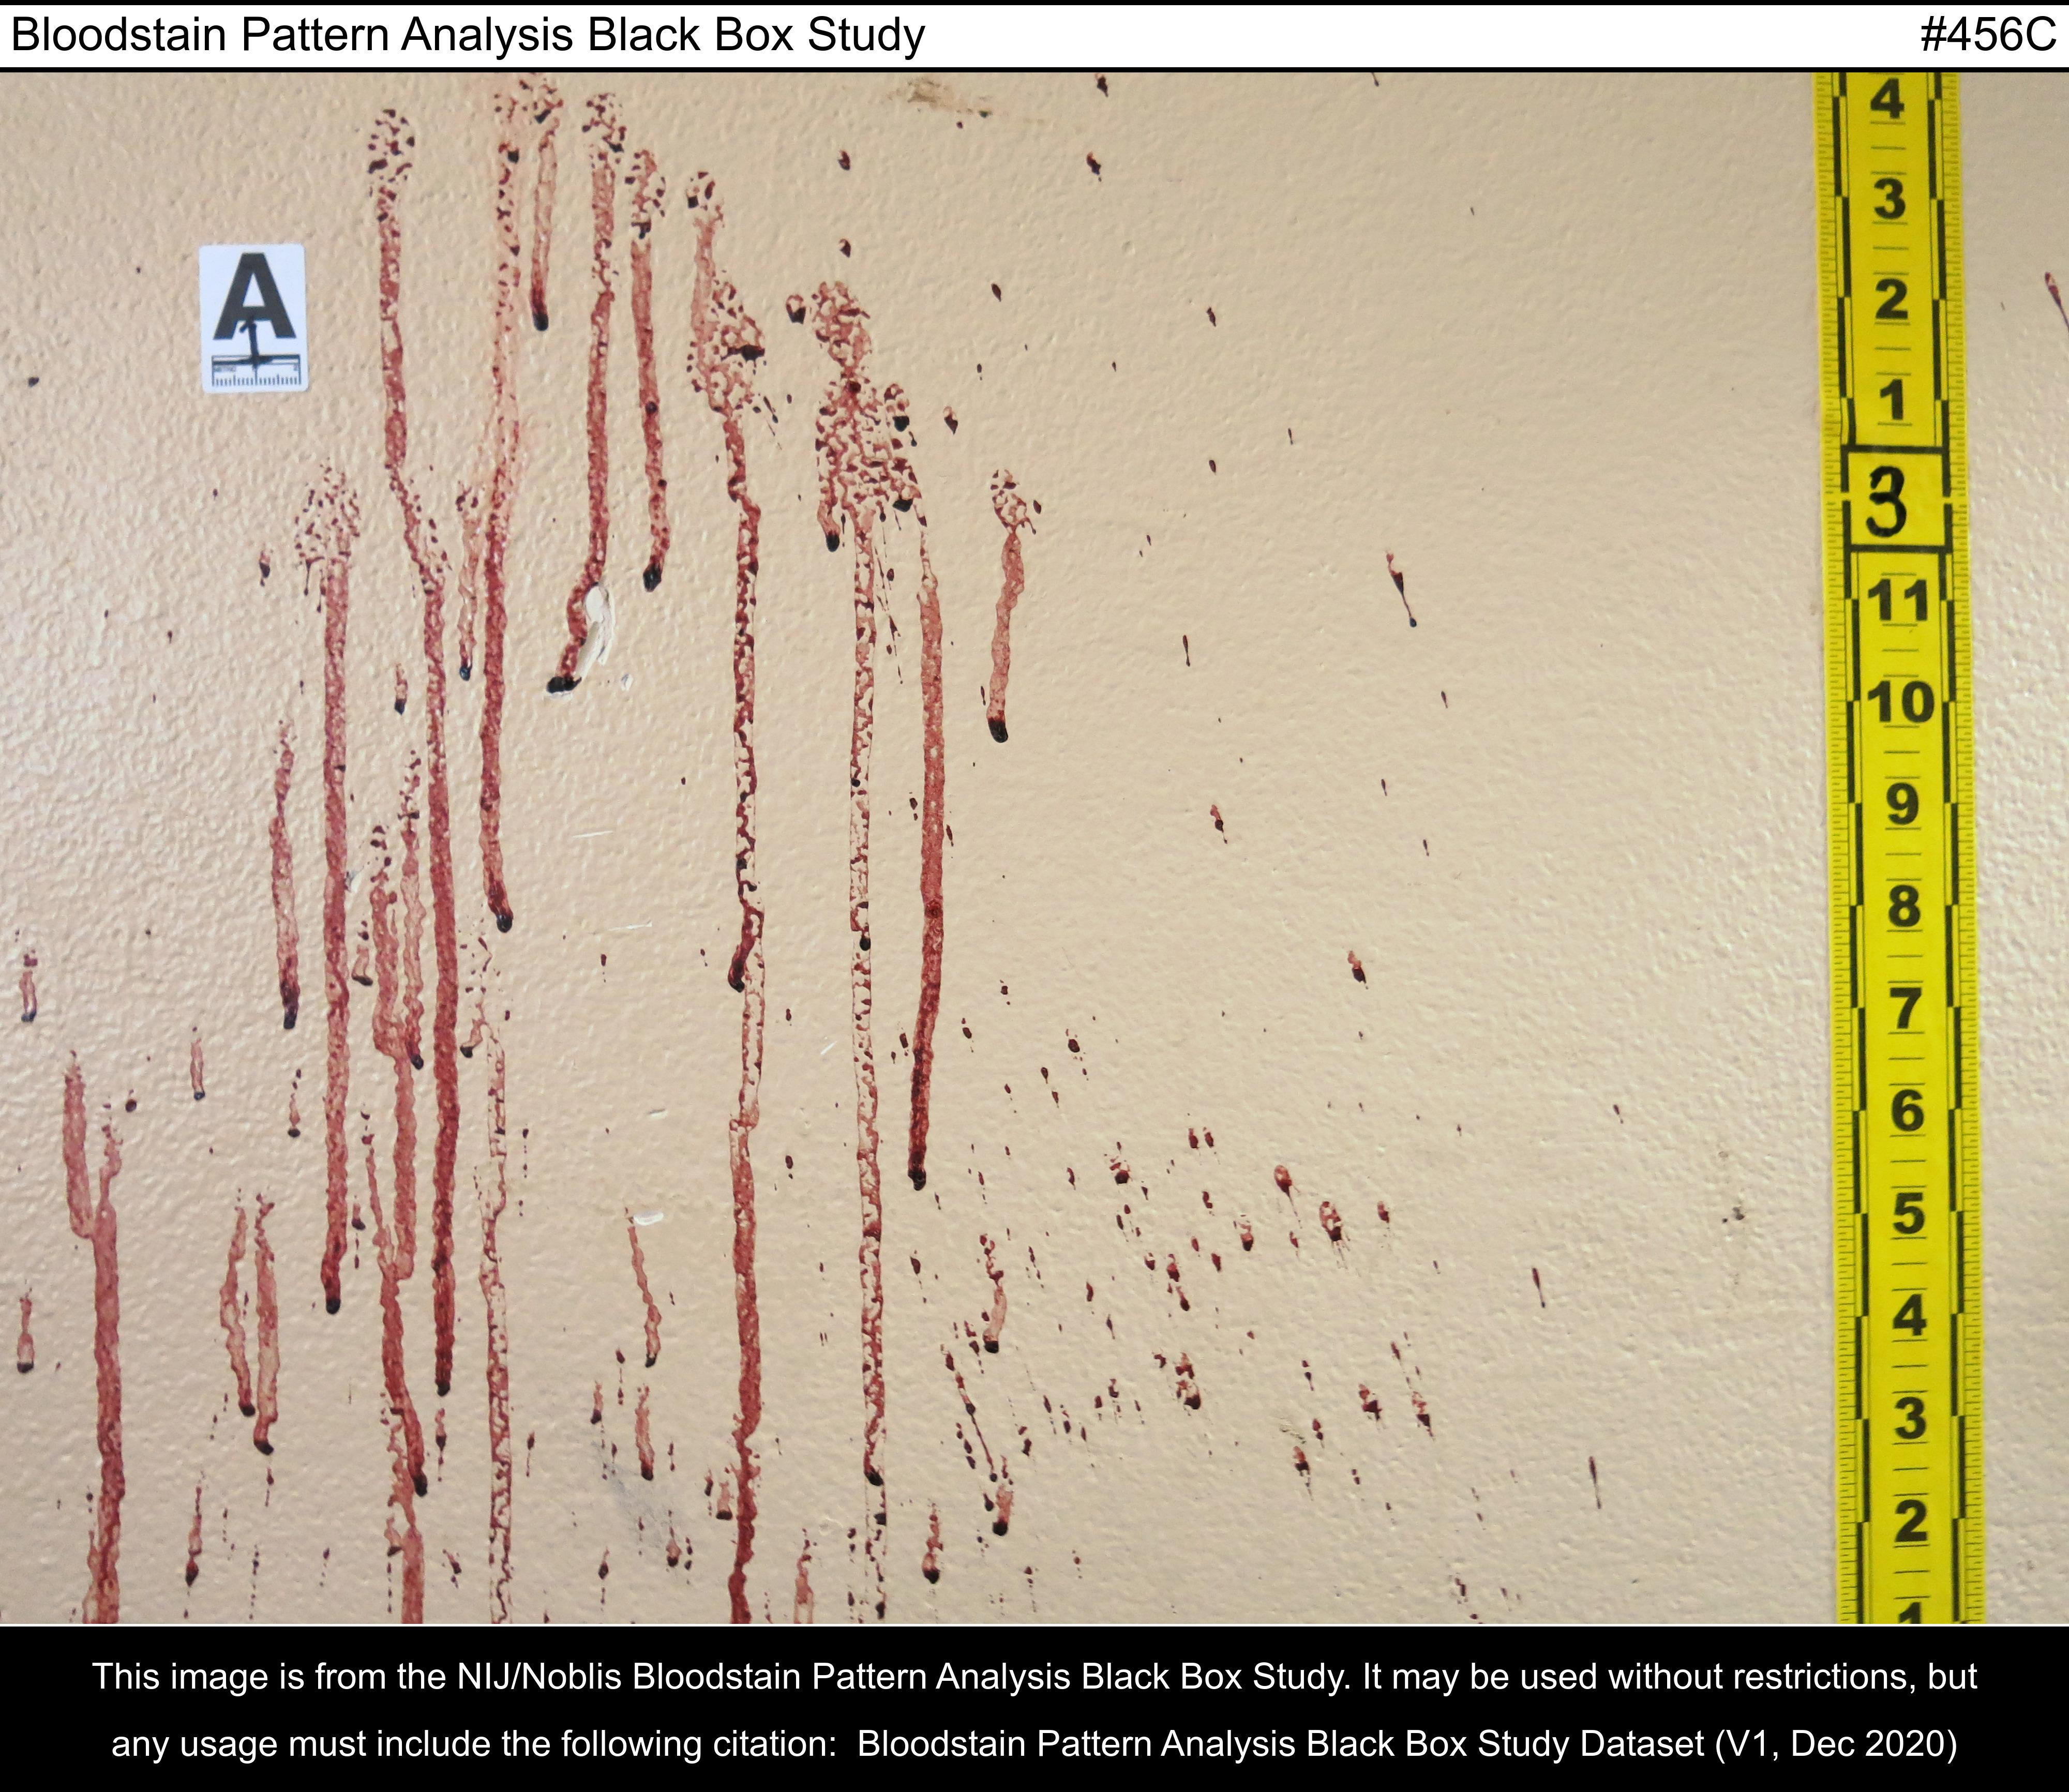Passive: (5, 70, 1397, 1628)
